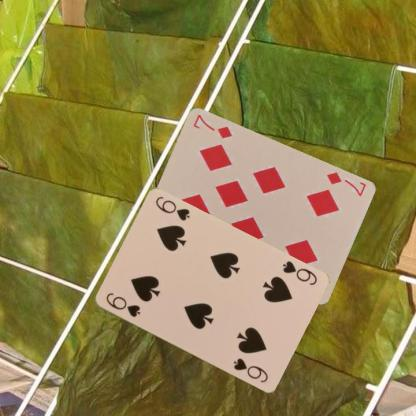6s: (279, 258, 318, 287), (103, 290, 141, 319)
7d: (323, 168, 367, 198)
